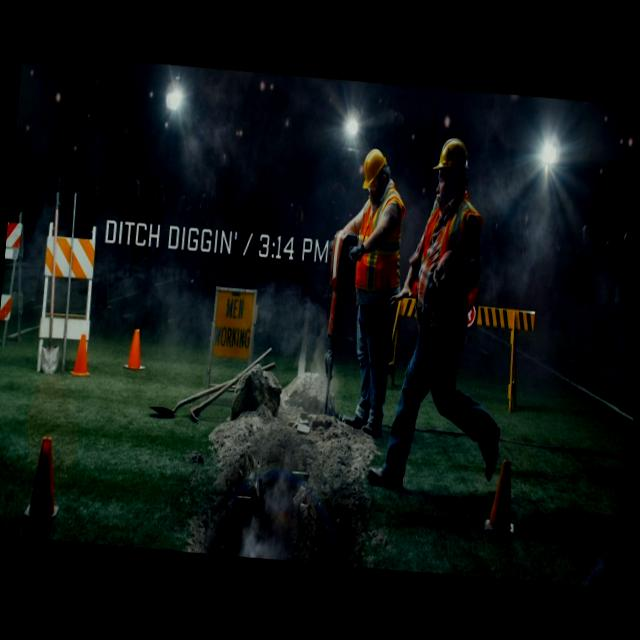helmet: (426, 140, 474, 186), (352, 144, 392, 197)
vest: (413, 186, 485, 334), (351, 185, 406, 304)
